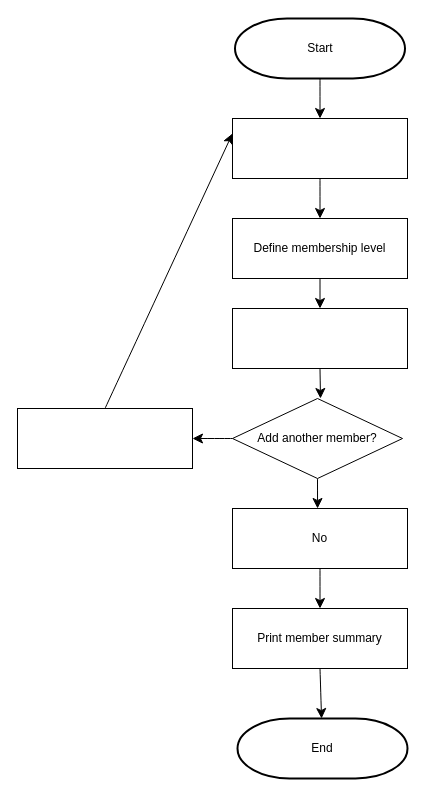
The diagram is 426 pixels wide and 796 high, and some of its shapes have lost their labels. Here are the shapes that lost their labels. From the top down, the centre of each, then its label:
At point (320, 148): "Prompt for new member details".
At point (320, 338): "Assign trainer and plan".
At point (104, 438): "Yes".
